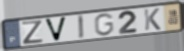2: (118, 9, 139, 35)
G: (93, 12, 115, 37)
I: (76, 14, 86, 41)
K: (143, 7, 162, 32)
V: (43, 16, 69, 42)
Z: (22, 19, 45, 46)
